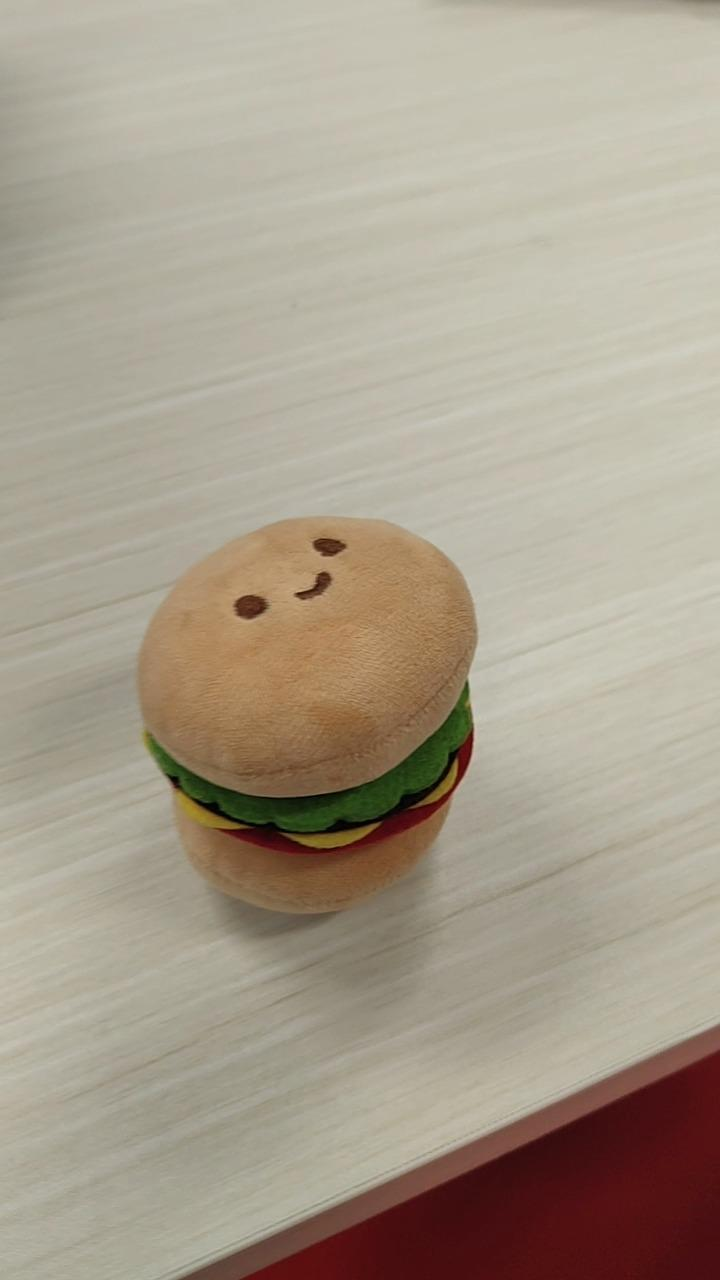hamburger: (135, 513, 478, 916)
